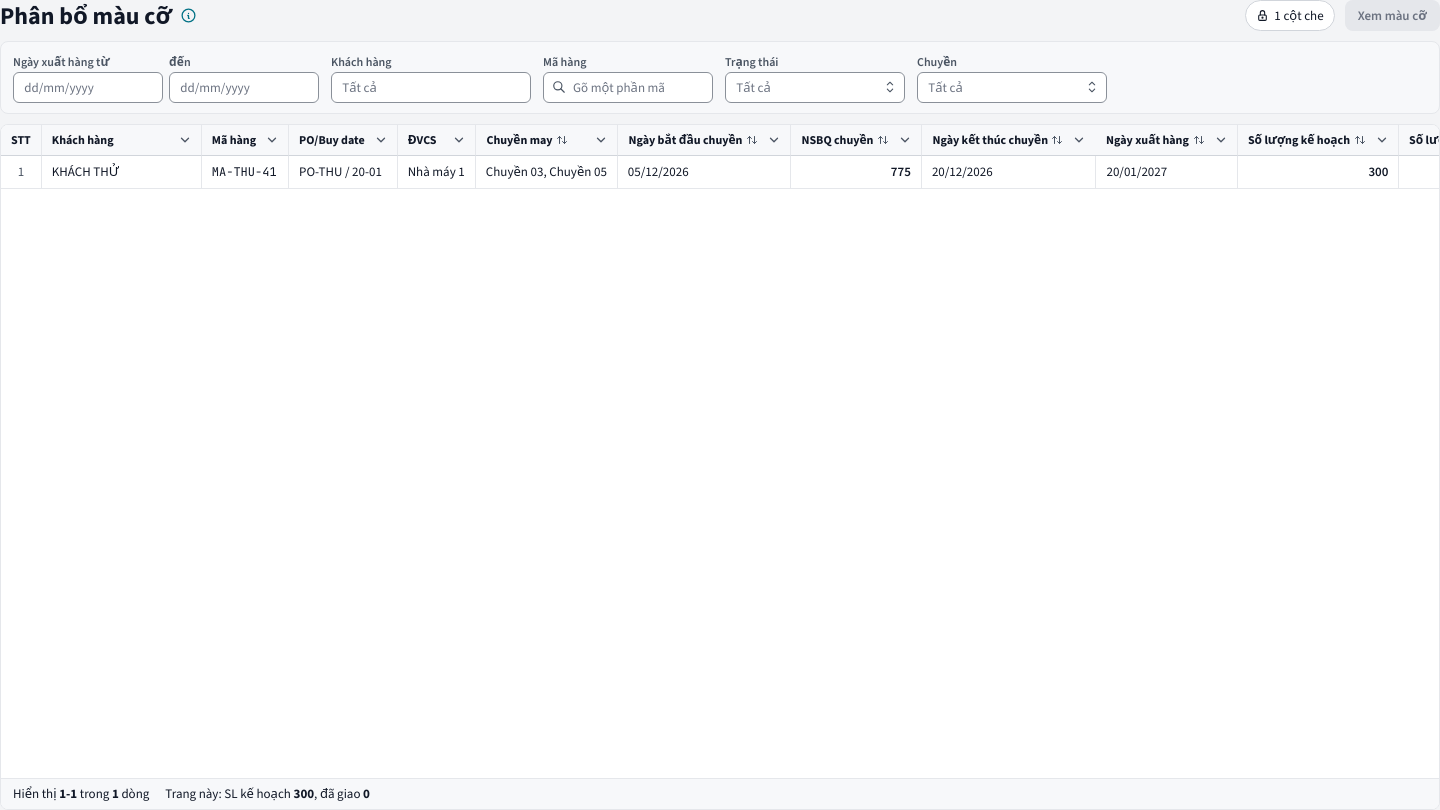
Test: Màn Phân bổ màu cỡ (phase 5.13) › Số lượng giao bị Che: popup chỉ xem nói lý do; ô Đã giao hiện "***", chân popup không có tổng
Expected: the text "775" is shown, [791,156,922,189]
Double-click the text "MA-THU-41" at (244,172), box [212,164,277,180]
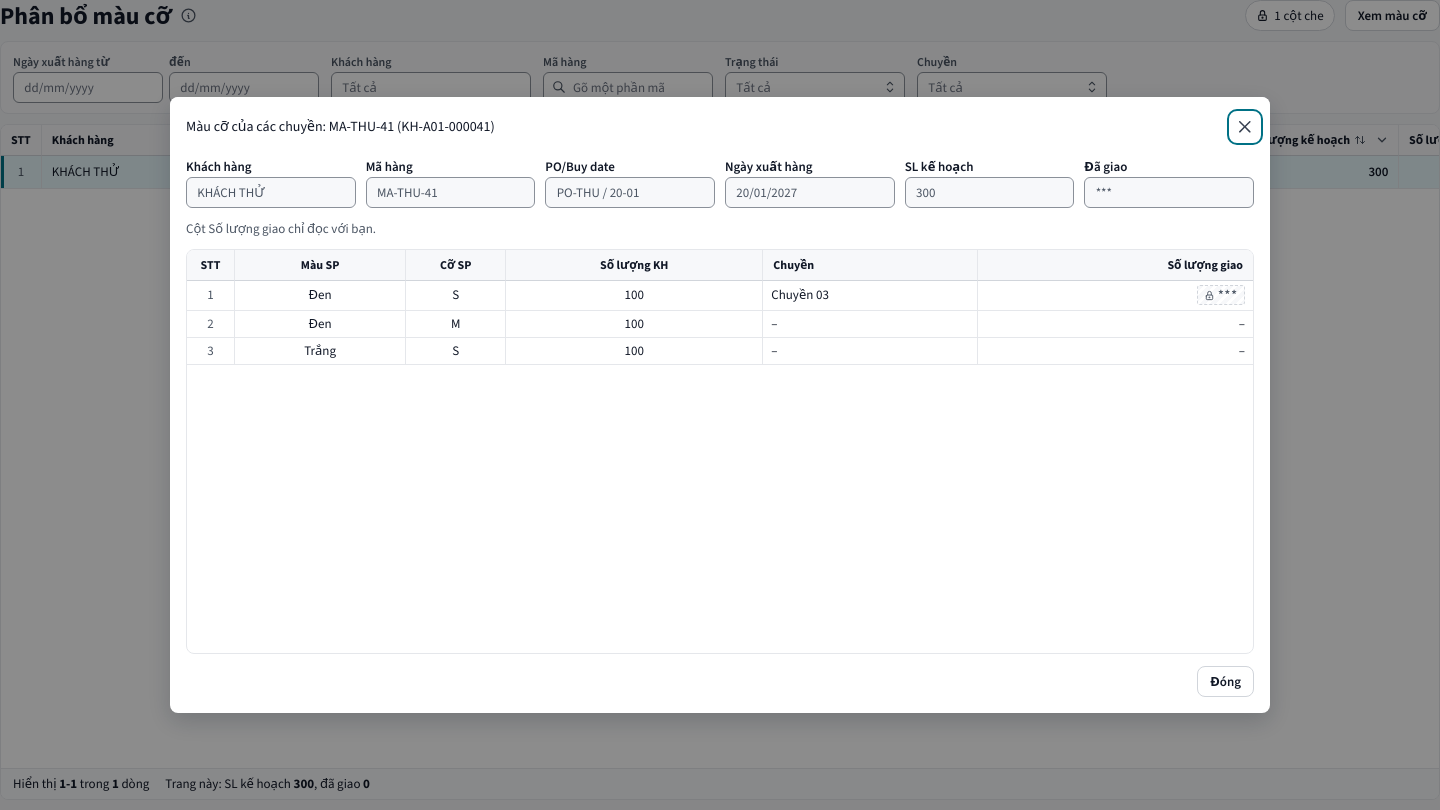
Expected: the text "Cột Số lượng giao chỉ đọc với bạn." is shown, [186,220,376,236]
Expected: the field labelled "Đã giao" holds "***", [1084,176,1254,208]
